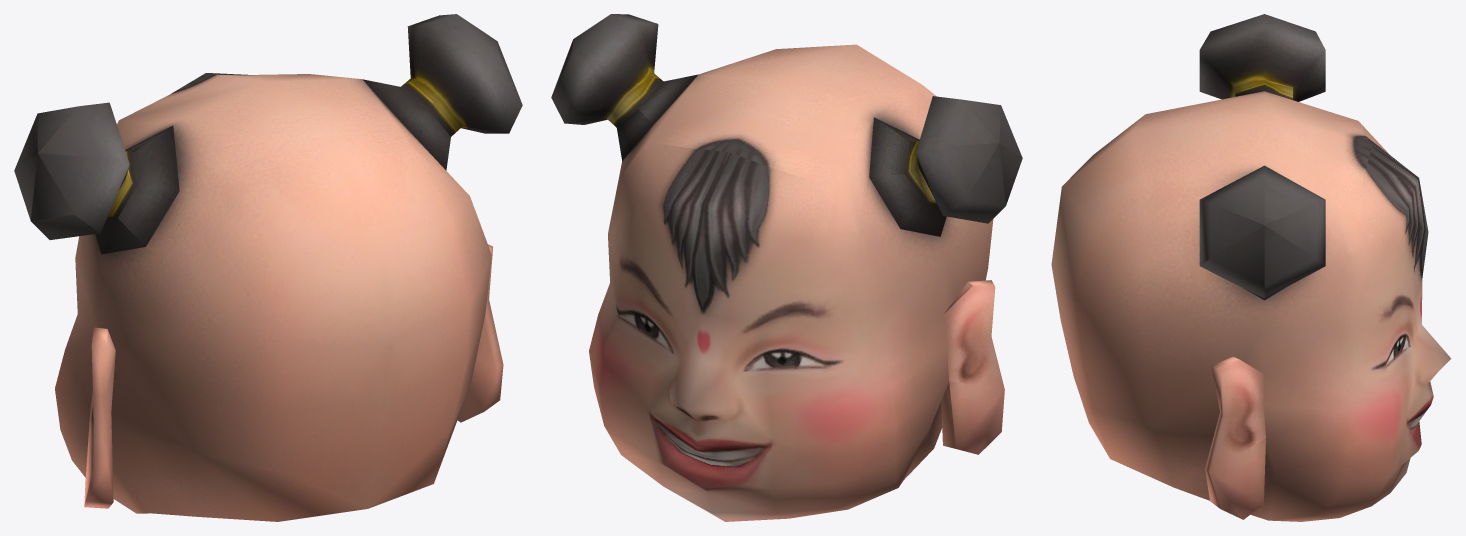
Rendered from Boy's head.glb.
The picture shows the model from 3 angles, left to right: view 1: azimuth 30°, elevation 25°; view 2: azimuth 150°, elevation 25°; view 3: azimuth 270°, elevation 25°; orthographic projection. The views are drawn at different scales.
Visible parts, largest first — view 1: 男娃娃头_2; view 2: 男娃娃头_2; view 3: 男娃娃头_2.
Boxes of the visible parts, <box> form: 男娃娃头_2: <box>14,14,522,521</box>; 男娃娃头_2: <box>551,14,1022,521</box>; 男娃娃头_2: <box>1051,14,1451,521</box>.
Size of the model in its own units: 0.393 by 0.3646 by 0.3282.
1 material, 1 textured.
